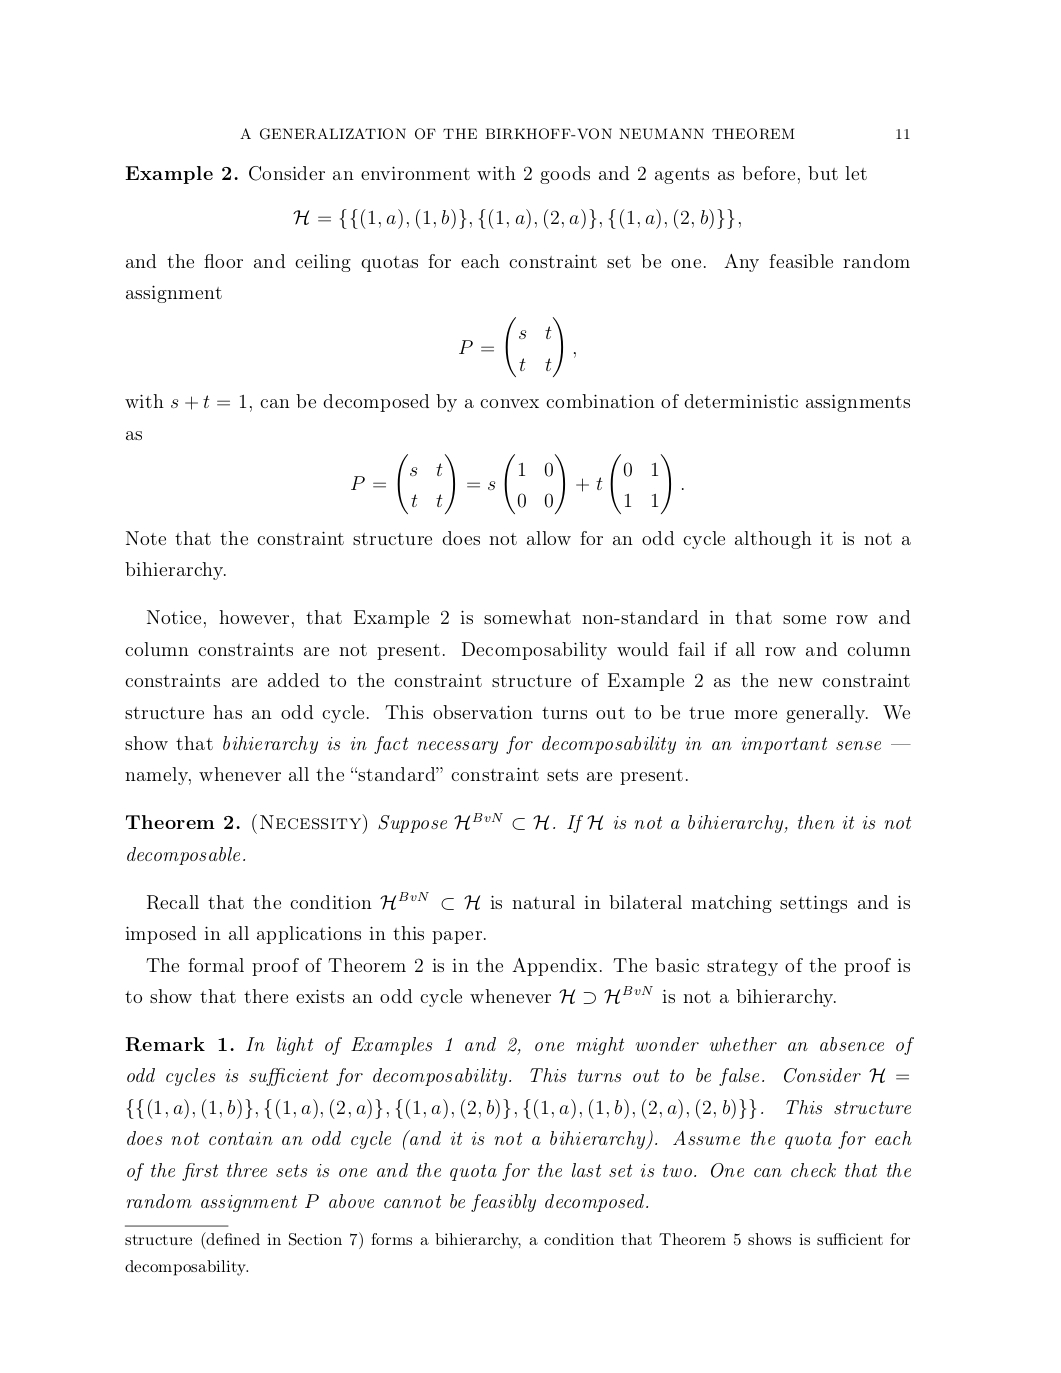formula: (351, 452, 683, 515), (293, 208, 740, 228), (459, 317, 575, 378)
